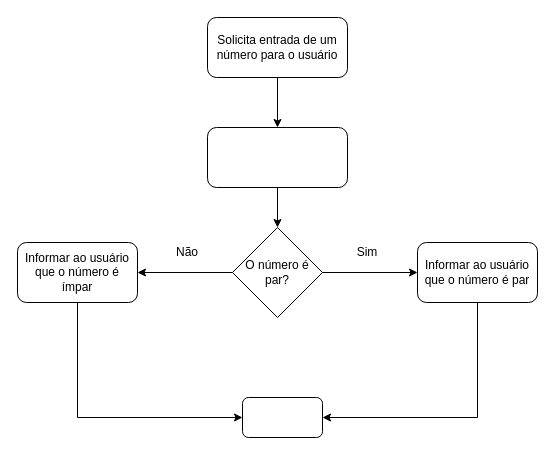
This 555x455 diagram has some shape labels left out. Each missing label, with the centre of its shape:
FIM: [282,417]
Usuário entra com um número: [277,157]
